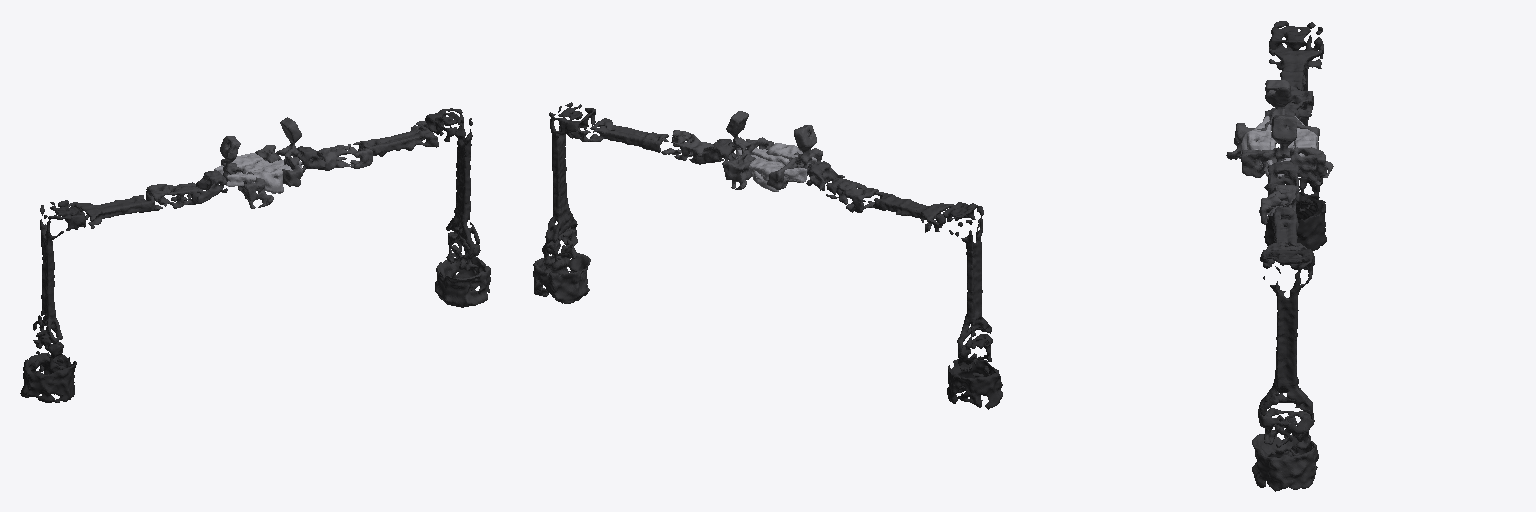
The robot description file, URDF, robot "worldsim_aloha":
<?xml version="1.0"?>
<!-- Generated by worldsim_core.robot.build_urdf from calibration.yaml -->
<robot name="worldsim_aloha">
  <link name="worldsim_world"/>
  <link name="arm0_base_link">
    <visual><geometry><mesh filename="package://worldsim_description/meshes/arm0_base_link.stl"/></geometry><material name="arm0_base_link"><color rgba="0.246 0.246 0.255 1"/></material></visual>
    <collision><geometry><mesh filename="package://worldsim_description/meshes/arm0_base_link_collision.stl"/></geometry></collision>
    <inertial><mass value="0.1"/><inertia ixx="1e-4" ixy="0" ixz="0" iyy="1e-4" iyz="0" izz="1e-4"/></inertial>
  </link>
  <link name="arm0_ee_arm_link">
    <inertial><mass value="0.1"/><inertia ixx="1e-4" ixy="0" ixz="0" iyy="1e-4" iyz="0" izz="1e-4"/></inertial>
  </link>
  <link name="arm0_fingers_link">
    <inertial><mass value="0.1"/><inertia ixx="1e-4" ixy="0" ixz="0" iyy="1e-4" iyz="0" izz="1e-4"/></inertial>
  </link>
  <link name="arm0_gripper_bar_link">
    <inertial><mass value="0.1"/><inertia ixx="1e-4" ixy="0" ixz="0" iyy="1e-4" iyz="0" izz="1e-4"/></inertial>
  </link>
  <link name="arm0_gripper_link">
    <visual><geometry><mesh filename="package://worldsim_description/meshes/arm0_gripper_link.stl"/></geometry><material name="arm0_gripper_link"><color rgba="0.315 0.315 0.327 1"/></material></visual>
    <collision><geometry><mesh filename="package://worldsim_description/meshes/arm0_gripper_link_collision.stl"/></geometry></collision>
    <inertial><mass value="0.1"/><inertia ixx="1e-4" ixy="0" ixz="0" iyy="1e-4" iyz="0" izz="1e-4"/></inertial>
  </link>
  <link name="arm0_left_finger_link">
    <visual><geometry><mesh filename="package://worldsim_description/meshes/arm0_left_finger_link.stl"/></geometry><material name="arm0_left_finger_link"><color rgba="0.571 0.571 0.594 1"/></material></visual>
    <collision><geometry><mesh filename="package://worldsim_description/meshes/arm0_left_finger_link_collision.stl"/></geometry></collision>
    <inertial><mass value="0.1"/><inertia ixx="1e-4" ixy="0" ixz="0" iyy="1e-4" iyz="0" izz="1e-4"/></inertial>
  </link>
  <link name="arm0_lower_forearm_link">
    <visual><geometry><mesh filename="package://worldsim_description/meshes/arm0_lower_forearm_link.stl"/></geometry><material name="arm0_lower_forearm_link"><color rgba="0.319 0.319 0.332 1"/></material></visual>
    <collision><geometry><mesh filename="package://worldsim_description/meshes/arm0_lower_forearm_link_collision.stl"/></geometry></collision>
    <inertial><mass value="0.1"/><inertia ixx="1e-4" ixy="0" ixz="0" iyy="1e-4" iyz="0" izz="1e-4"/></inertial>
  </link>
  <link name="arm0_right_finger_link">
    <visual><geometry><mesh filename="package://worldsim_description/meshes/arm0_right_finger_link.stl"/></geometry><material name="arm0_right_finger_link"><color rgba="0.578 0.578 0.602 1"/></material></visual>
    <collision><geometry><mesh filename="package://worldsim_description/meshes/arm0_right_finger_link_collision.stl"/></geometry></collision>
    <inertial><mass value="0.1"/><inertia ixx="1e-4" ixy="0" ixz="0" iyy="1e-4" iyz="0" izz="1e-4"/></inertial>
  </link>
  <link name="arm0_shoulder_link">
    <visual><geometry><mesh filename="package://worldsim_description/meshes/arm0_shoulder_link.stl"/></geometry><material name="arm0_shoulder_link"><color rgba="0.244 0.244 0.253 1"/></material></visual>
    <collision><geometry><mesh filename="package://worldsim_description/meshes/arm0_shoulder_link_collision.stl"/></geometry></collision>
    <inertial><mass value="0.1"/><inertia ixx="1e-4" ixy="0" ixz="0" iyy="1e-4" iyz="0" izz="1e-4"/></inertial>
  </link>
  <link name="arm0_upper_arm_link">
    <visual><geometry><mesh filename="package://worldsim_description/meshes/arm0_upper_arm_link.stl"/></geometry><material name="arm0_upper_arm_link"><color rgba="0.234 0.234 0.243 1"/></material></visual>
    <collision><geometry><mesh filename="package://worldsim_description/meshes/arm0_upper_arm_link_collision.stl"/></geometry></collision>
    <inertial><mass value="0.1"/><inertia ixx="1e-4" ixy="0" ixz="0" iyy="1e-4" iyz="0" izz="1e-4"/></inertial>
  </link>
  <link name="arm0_upper_forearm_link">
    <visual><geometry><mesh filename="package://worldsim_description/meshes/arm0_upper_forearm_link.stl"/></geometry><material name="arm0_upper_forearm_link"><color rgba="0.275 0.275 0.286 1"/></material></visual>
    <collision><geometry><mesh filename="package://worldsim_description/meshes/arm0_upper_forearm_link_collision.stl"/></geometry></collision>
    <inertial><mass value="0.1"/><inertia ixx="1e-4" ixy="0" ixz="0" iyy="1e-4" iyz="0" izz="1e-4"/></inertial>
  </link>
  <link name="arm0_wrist_link">
    <visual><geometry><mesh filename="package://worldsim_description/meshes/arm0_wrist_link.stl"/></geometry><material name="arm0_wrist_link"><color rgba="0.278 0.278 0.289 1"/></material></visual>
    <collision><geometry><mesh filename="package://worldsim_description/meshes/arm0_wrist_link_collision.stl"/></geometry></collision>
    <inertial><mass value="0.1"/><inertia ixx="1e-4" ixy="0" ixz="0" iyy="1e-4" iyz="0" izz="1e-4"/></inertial>
  </link>
  <joint name="arm0_mount" type="fixed"><parent link="worldsim_world"/><child link="arm0_base_link"/><origin xyz="0.484955 0.021599 -0.064031" rpy="0.000968 0.018476 -3.123159"/></joint>
  <joint name="arm0_waist" type="revolute"><parent link="arm0_base_link"/><child link="arm0_shoulder_link"/><origin xyz="0.000000 0.000000 0.079000" rpy="0.000000 0.000000 0.000000"/><axis xyz="0 0 1"/><limit lower="-3.1416" upper="3.1416" effort="10.0" velocity="3.14"/></joint>
  <joint name="arm0_shoulder" type="revolute"><parent link="arm0_shoulder_link"/><child link="arm0_upper_arm_link"/><origin xyz="0.000000 0.000000 0.048050" rpy="0.000000 0.000000 0.000000"/><axis xyz="0 1 0"/><limit lower="-1.85" upper="1.2566" effort="10.0" velocity="3.14"/></joint>
  <joint name="arm0_elbow" type="revolute"><parent link="arm0_upper_arm_link"/><child link="arm0_upper_forearm_link"/><origin xyz="0.059550 0.000000 0.300000" rpy="0.000000 0.000000 0.000000"/><axis xyz="0 1 0"/><limit lower="-1.7628" upper="1.6057" effort="10.0" velocity="3.14"/></joint>
  <joint name="arm0_forearm_roll" type="revolute"><parent link="arm0_upper_forearm_link"/><child link="arm0_lower_forearm_link"/><origin xyz="0.200000 0.000000 0.000000" rpy="0.000000 0.000000 0.000000"/><axis xyz="1 0 0"/><limit lower="-3.1416" upper="3.1416" effort="10.0" velocity="3.14"/></joint>
  <joint name="arm0_wrist_angle" type="revolute"><parent link="arm0_lower_forearm_link"/><child link="arm0_wrist_link"/><origin xyz="0.100000 0.000000 0.000000" rpy="0.000000 0.000000 0.000000"/><axis xyz="0 1 0"/><limit lower="-1.8675" upper="2.234" effort="10.0" velocity="3.14"/></joint>
  <joint name="arm0_wrist_rotate" type="revolute"><parent link="arm0_wrist_link"/><child link="arm0_gripper_link"/><origin xyz="0.069744 0.000000 0.000000" rpy="0.000000 0.000000 0.000000"/><axis xyz="1 0 0"/><limit lower="-3.1416" upper="3.1416" effort="10.0" velocity="3.14"/></joint>
  <joint name="arm0_ee_arm" type="fixed"><parent link="arm0_gripper_link"/><child link="arm0_ee_arm_link"/><origin xyz="0.042825 0.000000 0.000000" rpy="0.000000 0.000000 0.000000"/></joint>
  <joint name="arm0_gripper_bar" type="fixed"><parent link="arm0_ee_arm_link"/><child link="arm0_gripper_bar_link"/><origin xyz="0.000000 0.000000 0.000000" rpy="0.000000 0.000000 0.000000"/></joint>
  <joint name="arm0_ee_bar" type="fixed"><parent link="arm0_gripper_bar_link"/><child link="arm0_fingers_link"/><origin xyz="0.025875 0.000000 0.000000" rpy="0.000000 0.000000 0.000000"/></joint>
  <joint name="arm0_left_finger" type="prismatic"><parent link="arm0_fingers_link"/><child link="arm0_left_finger_link"/><origin xyz="0.000000 0.000000 0.000000" rpy="0.000000 0.000000 0.000000"/><axis xyz="0 1 0"/><limit lower="0.005" upper="0.06" effort="10.0" velocity="0.2"/></joint>
  <joint name="arm0_right_finger" type="prismatic"><parent link="arm0_fingers_link"/><child link="arm0_right_finger_link"/><origin xyz="0.000000 0.000000 0.000000" rpy="0.000000 0.000000 0.000000"/><axis xyz="0 1 0"/><limit lower="-0.06" upper="-0.005" effort="10.0" velocity="0.2"/><mimic joint="arm0_left_finger" multiplier="-1.0" offset="0.0"/></joint>
  <link name="arm0_action_frame"/>
  <joint name="arm0_action_frame_joint" type="fixed"><parent link="arm0_base_link"/><child link="arm0_action_frame"/><origin xyz="-0.056893 -0.027875 0.058550" rpy="-0.045896 0.049005 -0.015337"/></joint>
  <link name="arm0_action_tcp"/>
  <joint name="arm0_action_tcp_joint" type="fixed"><parent link="arm0_gripper_link"/><child link="arm0_action_tcp"/><origin xyz="-0.022455 -0.024241 0.034460" rpy="0.012525 -0.142385 -0.042355"/></joint>
  <link name="arm1_base_link">
    <visual><geometry><mesh filename="package://worldsim_description/meshes/arm1_base_link.stl"/></geometry><material name="arm1_base_link"><color rgba="0.205 0.205 0.213 1"/></material></visual>
    <collision><geometry><mesh filename="package://worldsim_description/meshes/arm1_base_link_collision.stl"/></geometry></collision>
    <inertial><mass value="0.1"/><inertia ixx="1e-4" ixy="0" ixz="0" iyy="1e-4" iyz="0" izz="1e-4"/></inertial>
  </link>
  <link name="arm1_ee_arm_link">
    <inertial><mass value="0.1"/><inertia ixx="1e-4" ixy="0" ixz="0" iyy="1e-4" iyz="0" izz="1e-4"/></inertial>
  </link>
  <link name="arm1_fingers_link">
    <inertial><mass value="0.1"/><inertia ixx="1e-4" ixy="0" ixz="0" iyy="1e-4" iyz="0" izz="1e-4"/></inertial>
  </link>
  <link name="arm1_gripper_bar_link">
    <inertial><mass value="0.1"/><inertia ixx="1e-4" ixy="0" ixz="0" iyy="1e-4" iyz="0" izz="1e-4"/></inertial>
  </link>
  <link name="arm1_gripper_link">
    <visual><geometry><mesh filename="package://worldsim_description/meshes/arm1_gripper_link.stl"/></geometry><material name="arm1_gripper_link"><color rgba="0.323 0.323 0.336 1"/></material></visual>
    <collision><geometry><mesh filename="package://worldsim_description/meshes/arm1_gripper_link_collision.stl"/></geometry></collision>
    <inertial><mass value="0.1"/><inertia ixx="1e-4" ixy="0" ixz="0" iyy="1e-4" iyz="0" izz="1e-4"/></inertial>
  </link>
  <link name="arm1_left_finger_link">
    <visual><geometry><mesh filename="package://worldsim_description/meshes/arm1_left_finger_link.stl"/></geometry><material name="arm1_left_finger_link"><color rgba="0.566 0.566 0.589 1"/></material></visual>
    <collision><geometry><mesh filename="package://worldsim_description/meshes/arm1_left_finger_link_collision.stl"/></geometry></collision>
    <inertial><mass value="0.1"/><inertia ixx="1e-4" ixy="0" ixz="0" iyy="1e-4" iyz="0" izz="1e-4"/></inertial>
  </link>
  <link name="arm1_lower_forearm_link">
    <visual><geometry><mesh filename="package://worldsim_description/meshes/arm1_lower_forearm_link.stl"/></geometry><material name="arm1_lower_forearm_link"><color rgba="0.277 0.277 0.288 1"/></material></visual>
    <collision><geometry><mesh filename="package://worldsim_description/meshes/arm1_lower_forearm_link_collision.stl"/></geometry></collision>
    <inertial><mass value="0.1"/><inertia ixx="1e-4" ixy="0" ixz="0" iyy="1e-4" iyz="0" izz="1e-4"/></inertial>
  </link>
  <link name="arm1_right_finger_link">
    <visual><geometry><mesh filename="package://worldsim_description/meshes/arm1_right_finger_link.stl"/></geometry><material name="arm1_right_finger_link"><color rgba="0.588 0.588 0.612 1"/></material></visual>
    <collision><geometry><mesh filename="package://worldsim_description/meshes/arm1_right_finger_link_collision.stl"/></geometry></collision>
    <inertial><mass value="0.1"/><inertia ixx="1e-4" ixy="0" ixz="0" iyy="1e-4" iyz="0" izz="1e-4"/></inertial>
  </link>
  <link name="arm1_shoulder_link">
    <visual><geometry><mesh filename="package://worldsim_description/meshes/arm1_shoulder_link.stl"/></geometry><material name="arm1_shoulder_link"><color rgba="0.210 0.210 0.218 1"/></material></visual>
    <collision><geometry><mesh filename="package://worldsim_description/meshes/arm1_shoulder_link_collision.stl"/></geometry></collision>
    <inertial><mass value="0.1"/><inertia ixx="1e-4" ixy="0" ixz="0" iyy="1e-4" iyz="0" izz="1e-4"/></inertial>
  </link>
  <link name="arm1_upper_arm_link">
    <visual><geometry><mesh filename="package://worldsim_description/meshes/arm1_upper_arm_link.stl"/></geometry><material name="arm1_upper_arm_link"><color rgba="0.234 0.234 0.244 1"/></material></visual>
    <collision><geometry><mesh filename="package://worldsim_description/meshes/arm1_upper_arm_link_collision.stl"/></geometry></collision>
    <inertial><mass value="0.1"/><inertia ixx="1e-4" ixy="0" ixz="0" iyy="1e-4" iyz="0" izz="1e-4"/></inertial>
  </link>
  <link name="arm1_upper_forearm_link">
    <visual><geometry><mesh filename="package://worldsim_description/meshes/arm1_upper_forearm_link.stl"/></geometry><material name="arm1_upper_forearm_link"><color rgba="0.260 0.260 0.270 1"/></material></visual>
    <collision><geometry><mesh filename="package://worldsim_description/meshes/arm1_upper_forearm_link_collision.stl"/></geometry></collision>
    <inertial><mass value="0.1"/><inertia ixx="1e-4" ixy="0" ixz="0" iyy="1e-4" iyz="0" izz="1e-4"/></inertial>
  </link>
  <link name="arm1_wrist_link">
    <visual><geometry><mesh filename="package://worldsim_description/meshes/arm1_wrist_link.stl"/></geometry><material name="arm1_wrist_link"><color rgba="0.286 0.286 0.298 1"/></material></visual>
    <collision><geometry><mesh filename="package://worldsim_description/meshes/arm1_wrist_link_collision.stl"/></geometry></collision>
    <inertial><mass value="0.1"/><inertia ixx="1e-4" ixy="0" ixz="0" iyy="1e-4" iyz="0" izz="1e-4"/></inertial>
  </link>
  <joint name="arm1_mount" type="fixed"><parent link="worldsim_world"/><child link="arm1_base_link"/><origin xyz="-0.576960 0.043180 -0.063962" rpy="-0.012742 0.021896 -0.055524"/></joint>
  <joint name="arm1_waist" type="revolute"><parent link="arm1_base_link"/><child link="arm1_shoulder_link"/><origin xyz="0.000000 0.000000 0.079000" rpy="0.000000 0.000000 0.000000"/><axis xyz="0 0 1"/><limit lower="-3.1416" upper="3.1416" effort="10.0" velocity="3.14"/></joint>
  <joint name="arm1_shoulder" type="revolute"><parent link="arm1_shoulder_link"/><child link="arm1_upper_arm_link"/><origin xyz="0.000000 0.000000 0.048050" rpy="0.000000 0.000000 0.000000"/><axis xyz="0 1 0"/><limit lower="-1.85" upper="1.2566" effort="10.0" velocity="3.14"/></joint>
  <joint name="arm1_elbow" type="revolute"><parent link="arm1_upper_arm_link"/><child link="arm1_upper_forearm_link"/><origin xyz="0.059550 0.000000 0.300000" rpy="0.000000 0.000000 0.000000"/><axis xyz="0 1 0"/><limit lower="-1.7628" upper="1.6057" effort="10.0" velocity="3.14"/></joint>
  <joint name="arm1_forearm_roll" type="revolute"><parent link="arm1_upper_forearm_link"/><child link="arm1_lower_forearm_link"/><origin xyz="0.200000 0.000000 0.000000" rpy="0.000000 0.000000 0.000000"/><axis xyz="1 0 0"/><limit lower="-3.1416" upper="3.1416" effort="10.0" velocity="3.14"/></joint>
  <joint name="arm1_wrist_angle" type="revolute"><parent link="arm1_lower_forearm_link"/><child link="arm1_wrist_link"/><origin xyz="0.100000 0.000000 0.000000" rpy="0.000000 0.000000 0.000000"/><axis xyz="0 1 0"/><limit lower="-1.8675" upper="2.234" effort="10.0" velocity="3.14"/></joint>
  <joint name="arm1_wrist_rotate" type="revolute"><parent link="arm1_wrist_link"/><child link="arm1_gripper_link"/><origin xyz="0.069744 0.000000 0.000000" rpy="0.000000 0.000000 0.000000"/><axis xyz="1 0 0"/><limit lower="-3.1416" upper="3.1416" effort="10.0" velocity="3.14"/></joint>
  <joint name="arm1_ee_arm" type="fixed"><parent link="arm1_gripper_link"/><child link="arm1_ee_arm_link"/><origin xyz="0.042825 0.000000 0.000000" rpy="0.000000 0.000000 0.000000"/></joint>
  <joint name="arm1_gripper_bar" type="fixed"><parent link="arm1_ee_arm_link"/><child link="arm1_gripper_bar_link"/><origin xyz="0.000000 0.000000 0.000000" rpy="0.000000 0.000000 0.000000"/></joint>
  <joint name="arm1_ee_bar" type="fixed"><parent link="arm1_gripper_bar_link"/><child link="arm1_fingers_link"/><origin xyz="0.025875 0.000000 0.000000" rpy="0.000000 0.000000 0.000000"/></joint>
  <joint name="arm1_left_finger" type="prismatic"><parent link="arm1_fingers_link"/><child link="arm1_left_finger_link"/><origin xyz="0.000000 0.000000 0.000000" rpy="0.000000 0.000000 0.000000"/><axis xyz="0 1 0"/><limit lower="0.005" upper="0.06" effort="10.0" velocity="0.2"/></joint>
  <joint name="arm1_right_finger" type="prismatic"><parent link="arm1_fingers_link"/><child link="arm1_right_finger_link"/><origin xyz="0.000000 0.000000 0.000000" rpy="0.000000 0.000000 0.000000"/><axis xyz="0 1 0"/><limit lower="-0.06" upper="-0.005" effort="10.0" velocity="0.2"/><mimic joint="arm1_left_finger" multiplier="-1.0" offset="0.0"/></joint>
  <link name="arm1_action_frame"/>
  <joint name="arm1_action_frame_joint" type="fixed"><parent link="arm1_base_link"/><child link="arm1_action_frame"/><origin xyz="-0.027237 -0.003871 0.037832" rpy="0.031179 0.045801 -0.005261"/></joint>
  <link name="arm1_action_tcp"/>
  <joint name="arm1_action_tcp_joint" type="fixed"><parent link="arm1_gripper_link"/><child link="arm1_action_tcp"/><origin xyz="0.010577 -0.021000 0.036798" rpy="0.037297 -0.076129 -0.024660"/></joint>
</robot>

--- What the picture shows (computed from the rendered views, not written in the file) ---
3 views of the same robot in one strip: view 1: azimuth 30°, elevation 25°; view 2: azimuth 150°, elevation 25°; view 3: azimuth 270°, elevation 25° (orthographic).
Model worldsim_aloha with 29 links and 28 joints (12 revolute, 4 prismatic, 12 fixed), rooted at worldsim_world, posed all joints at 0 but 4 set to mid-range because 0 is outside their limits (arm0_left_finger = 0.0325, arm0_right_finger = -0.0325, arm1_left_finger = 0.0325, arm1_right_finger = -0.0325).
Visible links, largest first — view 1: arm0_upper_arm_link, arm1_upper_arm_link, arm0_base_link, arm1_base_link, arm0_upper_forearm_link, arm0_gripper_link, arm1_upper_forearm_link, arm1_gripper_link, arm1_lower_forearm_link, arm0_lower_forearm_link, arm0_left_finger_link, arm0_shoulder_link (+2 smaller); view 2: arm0_upper_arm_link, arm1_upper_arm_link, arm0_base_link, arm1_base_link, arm0_gripper_link, arm0_upper_forearm_link, arm1_upper_forearm_link, arm1_gripper_link, arm1_lower_forearm_link, arm0_lower_forearm_link, arm0_shoulder_link, arm0_right_finger_link (+3 smaller); view 3: arm0_upper_arm_link, arm0_base_link, arm0_gripper_link, arm1_base_link, arm0_shoulder_link, arm1_gripper_link, arm1_upper_forearm_link, arm1_upper_arm_link, arm0_upper_forearm_link, arm0_lower_forearm_link, arm0_wrist_link, arm0_left_finger_link (+1 smaller).
Boxes of the visible links, left/top/right/bottom form: arm0_upper_arm_link: left=425, top=108, right=479, bottom=255; arm1_upper_arm_link: left=33, top=200, right=85, bottom=347; arm0_base_link: left=435, top=257, right=490, bottom=307; arm1_base_link: left=20, top=353, right=76, bottom=402; arm0_upper_forearm_link: left=358, top=121, right=438, bottom=156; arm0_gripper_link: left=255, top=117, right=302, bottom=186; arm1_upper_forearm_link: left=68, top=195, right=154, bottom=228; arm1_gripper_link: left=220, top=136, right=273, bottom=208; arm1_lower_forearm_link: left=146, top=182, right=202, bottom=210; arm0_lower_forearm_link: left=317, top=142, right=372, bottom=170; arm0_left_finger_link: left=226, top=165, right=283, bottom=193; arm0_shoulder_link: left=446, top=233, right=480, bottom=273; arm0_upper_arm_link: left=545, top=102, right=595, bottom=251; arm1_upper_arm_link: left=936, top=202, right=991, bottom=354; arm0_base_link: left=533, top=253, right=590, bottom=303; arm1_base_link: left=947, top=359, right=1002, bottom=409; arm0_gripper_link: left=722, top=111, right=773, bottom=189; arm0_upper_forearm_link: left=571, top=118, right=668, bottom=152; arm1_upper_forearm_link: left=873, top=191, right=953, bottom=232; arm1_gripper_link: left=767, top=125, right=822, bottom=189; arm1_lower_forearm_link: left=826, top=178, right=878, bottom=212; arm0_lower_forearm_link: left=661, top=130, right=713, bottom=163; arm0_shoulder_link: left=542, top=227, right=577, bottom=269; arm0_right_finger_link: left=749, top=159, right=806, bottom=182; arm0_upper_arm_link: left=1258, top=249, right=1314, bottom=419; arm0_base_link: left=1252, top=434, right=1318, bottom=491; arm0_gripper_link: left=1240, top=115, right=1333, bottom=185; arm1_base_link: left=1264, top=192, right=1326, bottom=250; arm0_shoulder_link: left=1259, top=408, right=1314, bottom=454; arm1_gripper_link: left=1226, top=80, right=1319, bottom=159; arm1_upper_forearm_link: left=1269, top=45, right=1323, bottom=90; arm1_upper_arm_link: left=1269, top=21, right=1323, bottom=183; arm0_upper_forearm_link: left=1266, top=206, right=1314, bottom=265; arm0_lower_forearm_link: left=1259, top=184, right=1299, bottom=224; arm0_wrist_link: left=1264, top=161, right=1299, bottom=201; arm0_left_finger_link: left=1241, top=116, right=1270, bottom=153.
Bounding box of the posed robot: 1.18 × 0.1987 × 0.545 m (x, y, z).
Meshes: 18 distinct files referenced, 18 mesh visuals loaded (18 binary STL).
